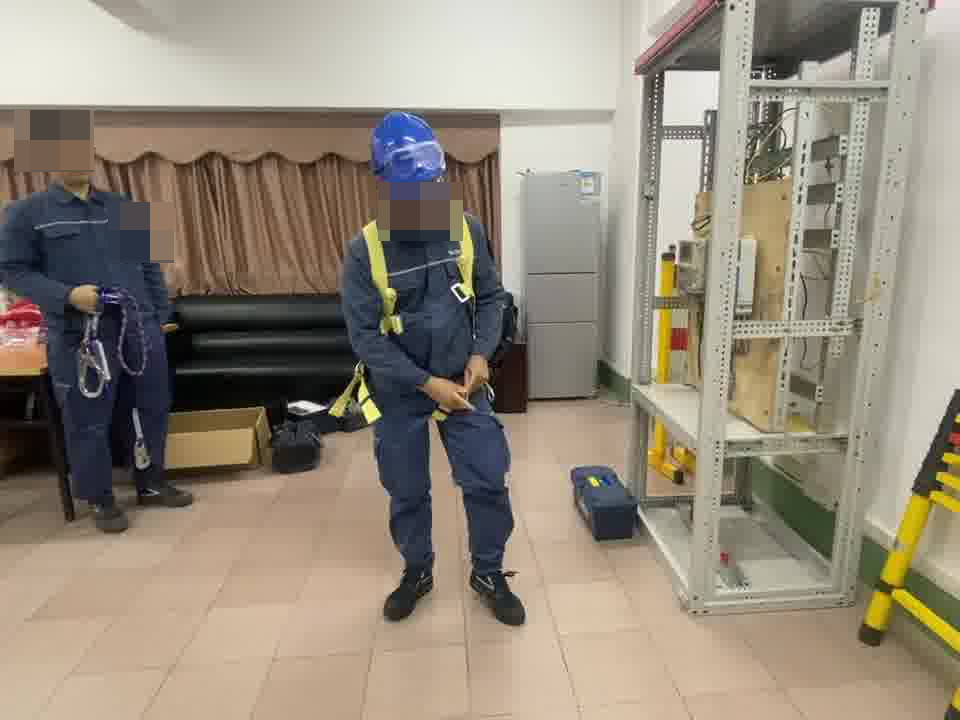downsuit: (367, 372, 517, 575), (47, 324, 170, 491)
halt: (369, 112, 448, 208)
hand: (422, 376, 473, 408), (463, 358, 495, 390), (70, 280, 100, 314)
noear: (36, 135, 86, 184)
person: (335, 109, 529, 622), (1, 109, 188, 517)
safebelt: (328, 211, 501, 438)
unhalt: (28, 112, 99, 191)
upsuit: (340, 207, 498, 368), (3, 190, 170, 322)
